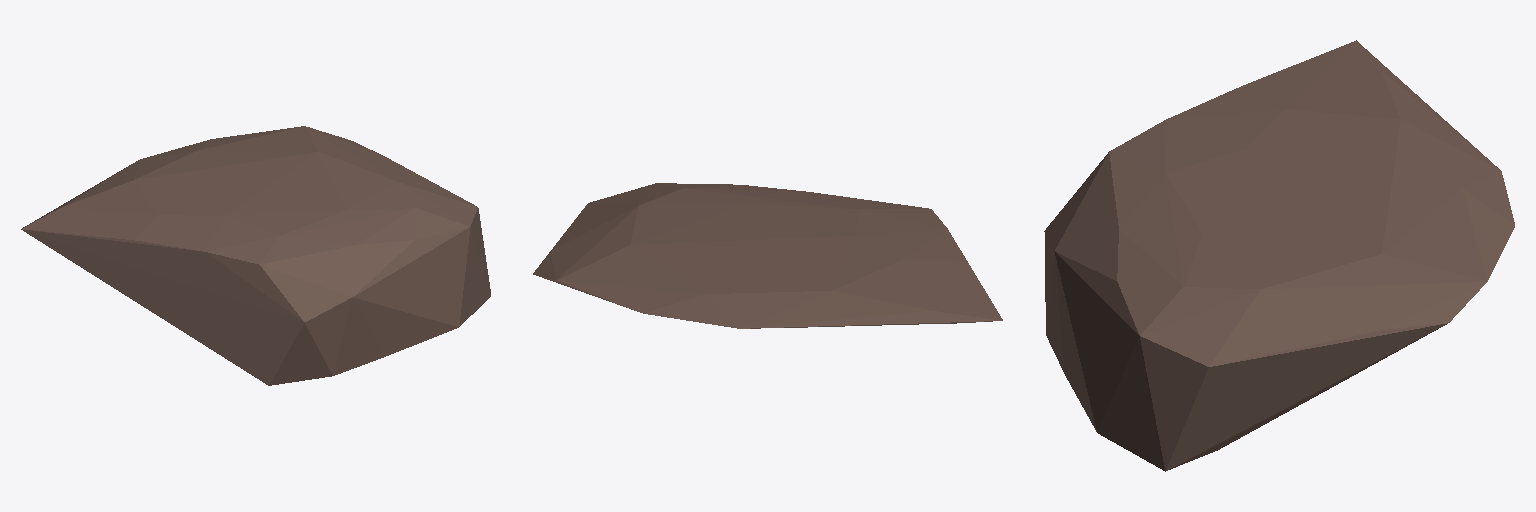
URDF robot description (obj_05):
<?xml version="1.0"?>
<robot name="obj_05">
  <!-- folded towel: fabric, 272 g. Written by Darius 0.2.0. Link frame: +z up, origin at the capture-time bounding-box center; place it at the pose in world.json -->
  <mujoco>
    <compiler meshdir="../meshes/" discardvisual="true" balanceinertia="true" fusestatic="false" />
  </mujoco>
  <link name="obj_05">
    <inertial>
      <origin xyz="0.03185 -0.01306 0.01275" rpy="0 0 0" />
      <mass value="0.2717" />
      <inertia ixx="0.00068098" ixy="2.35043e-05" ixz="7.34117e-05" iyy="0.000751768" iyz="-0.000126994" izz="0.00124861" />
    </inertial>
    <visual>
      <geometry>
        <mesh filename="../meshes/obj_05_visual.obj" />
      </geometry>
      <material name="obj_05_color">
        <color rgba="0.471 0.392 0.357 1" />
      </material>
    </visual>
    <collision name="obj_05_part0">
      <geometry>
        <mesh filename="../meshes/obj_05_part0.obj" />
      </geometry>
    </collision>
    <collision name="obj_05_part1">
      <geometry>
        <mesh filename="../meshes/obj_05_part1.obj" />
      </geometry>
    </collision>
    <collision name="obj_05_part2">
      <geometry>
        <mesh filename="../meshes/obj_05_part2.obj" />
      </geometry>
    </collision>
    <collision name="obj_05_part3">
      <geometry>
        <mesh filename="../meshes/obj_05_part3.obj" />
      </geometry>
    </collision>
    <collision name="obj_05_part4">
      <geometry>
        <mesh filename="../meshes/obj_05_part4.obj" />
      </geometry>
    </collision>
    <collision name="obj_05_part5">
      <geometry>
        <mesh filename="../meshes/obj_05_part5.obj" />
      </geometry>
    </collision>
    <collision name="obj_05_part6">
      <geometry>
        <mesh filename="../meshes/obj_05_part6.obj" />
      </geometry>
    </collision>
    <collision name="obj_05_part7">
      <geometry>
        <mesh filename="../meshes/obj_05_part7.obj" />
      </geometry>
    </collision>
    <contact>
      <lateral_friction value="0.7" />
      <restitution value="0.05" />
    </contact>
  </link>
</robot>

--- What the picture shows (computed from the rendered views, not written in the file) ---
3 views of the same robot in one strip: view 1: azimuth 30°, elevation 25°; view 2: azimuth 150°, elevation 25°; view 3: azimuth 270°, elevation 25° (orthographic).
Model obj_05 with 1 links and 0 joints (none), rooted at obj_05, posed every joint at zero.
Links seen in each view (by area): view 1: obj_05; view 2: obj_05; view 3: obj_05.
Boxes of the visible links, x1,y1,x2,y2 form: obj_05: [21, 126, 490, 385]; obj_05: [533, 183, 1002, 328]; obj_05: [1044, 40, 1514, 471].
Size in the robot's own frame: 0.243 by 0.1763 by 0.0689 metres.
1 mesh visuals loaded from 1 distinct referenced files (1 OBJ).
